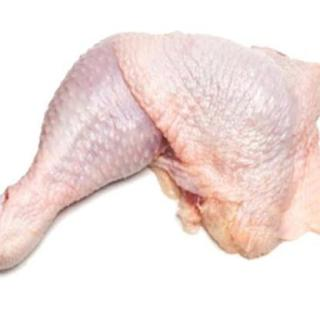Ayam: (1, 37, 319, 270)
